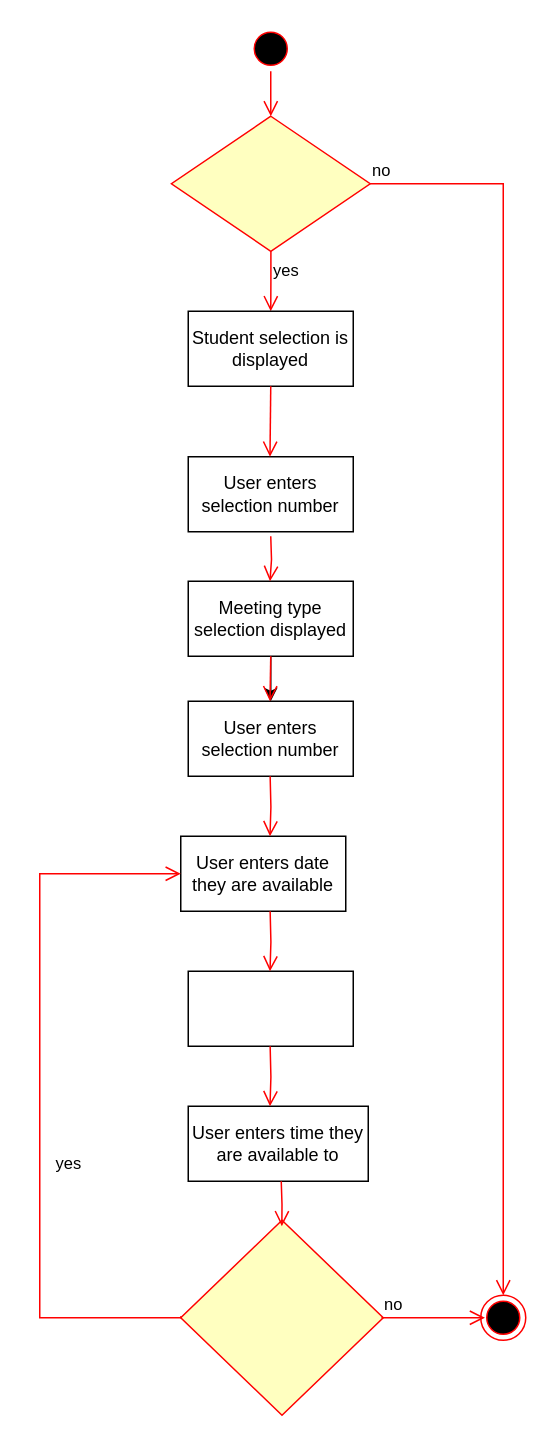
The diagram is 552 pixels wide and 1442 high, and some of its shapes have lost their labels. Each missing label, with the centre of its shape:
'Request a meeting' selected?: point (270, 183)
Does the user have more availablity: point (281, 1317)
User enters time they are available from: point (270, 1008)
